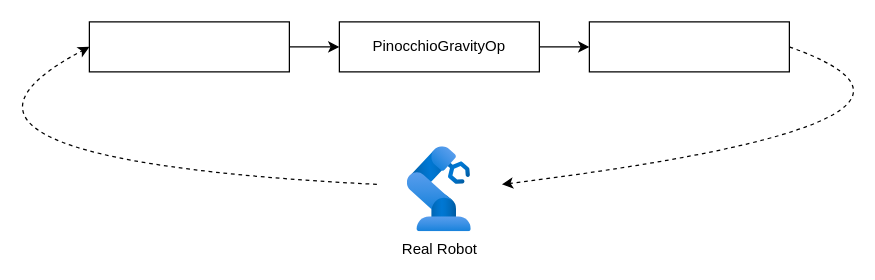
This 875x280 diagram has some shape labels left out. The centre of each missing label's shape, as x and y in pixels:
"JointStateSourceOp" goes at [188,46].
"MotorCommandSinkOp" goes at [688,46].
